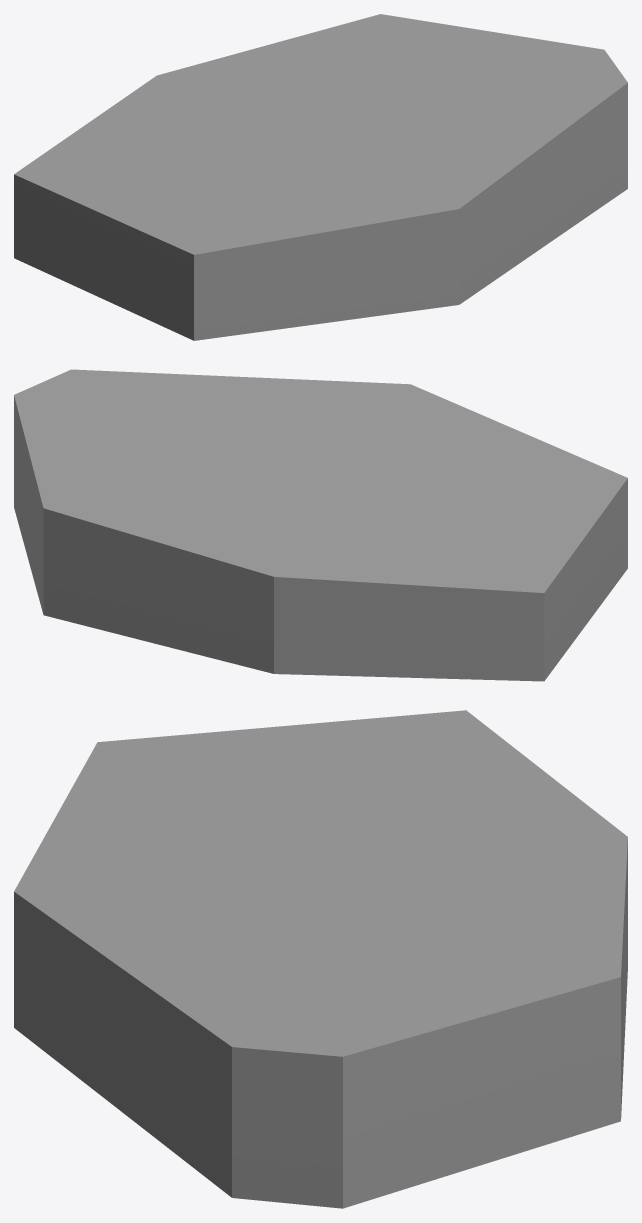
The model's file is stone flat 4.fbx.
The picture shows the model from 3 angles, top to bottom: view 1: azimuth 30°, elevation 25°; view 2: azimuth 150°, elevation 25°; view 3: azimuth 270°, elevation 25°; orthographic projection. The views are drawn at different scales.
Visible parts, largest first — view 1: stone flat 4; view 2: stone flat 4; view 3: stone flat 4.
Boxes of the visible parts, x1,y1,x2,y2 form: stone flat 4: (14,14,627,340); stone flat 4: (14,369,627,681); stone flat 4: (14,710,627,1208).
Size of the model in its own units: 61.45 by 11.47 by 42.05.
